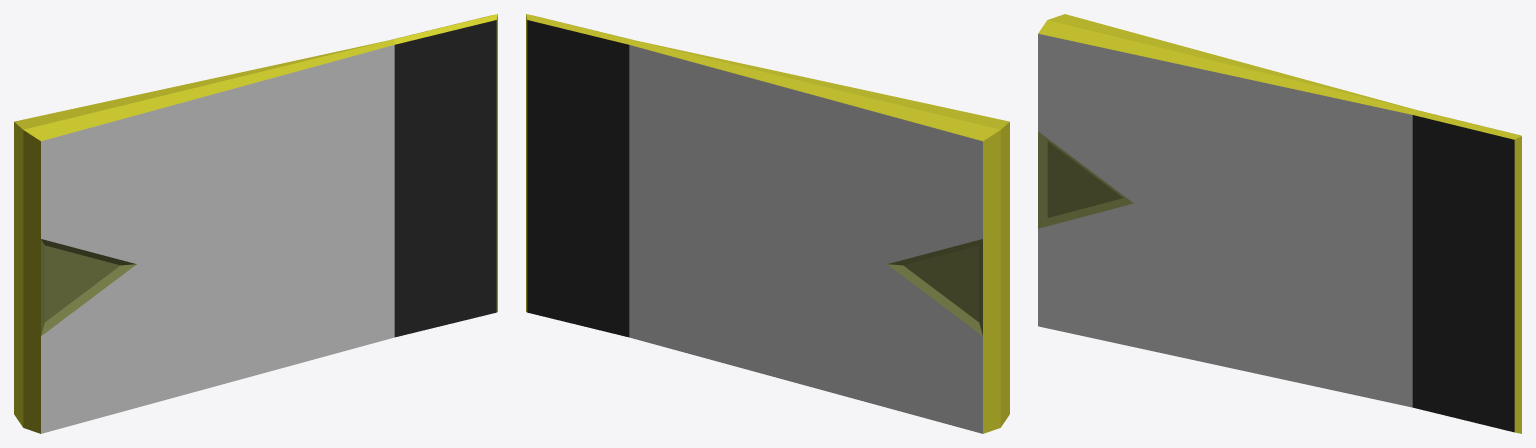
Rendered from KeyCard.fbx.
The picture shows the model from 3 angles, left to right: view 1: azimuth 30°, elevation 25°; view 2: azimuth 150°, elevation 25°; view 3: azimuth 330°, elevation 25°; orthographic projection.
Parts seen in each view (by area): view 1: Keycard; view 2: Keycard; view 3: Keycard.
Boxes of the visible parts, x1,y1,x2,y2 form: Keycard: (14,14,497,433); Keycard: (526,14,1009,433); Keycard: (1038,14,1521,433).
Size of the model in its own units: 20.37 by 12.22 by 2.
